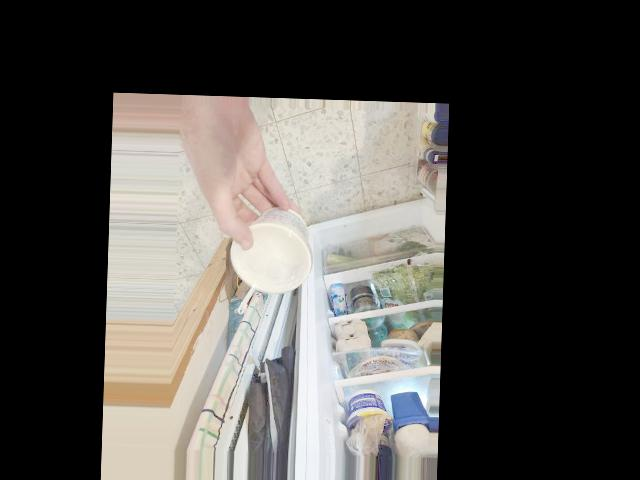cotage: (239, 217, 312, 303)
